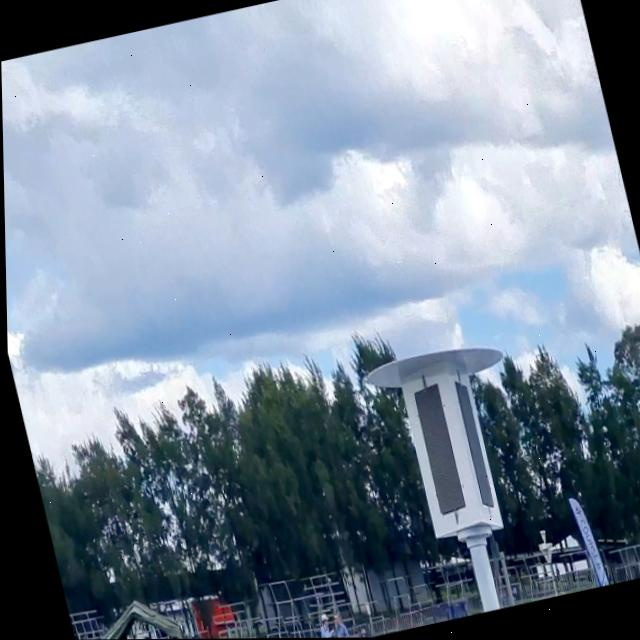led: (402, 381, 471, 524), (448, 376, 496, 518)
